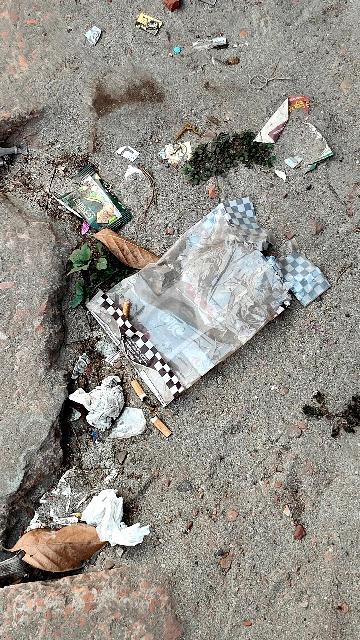polythene: (103, 222, 313, 397)
